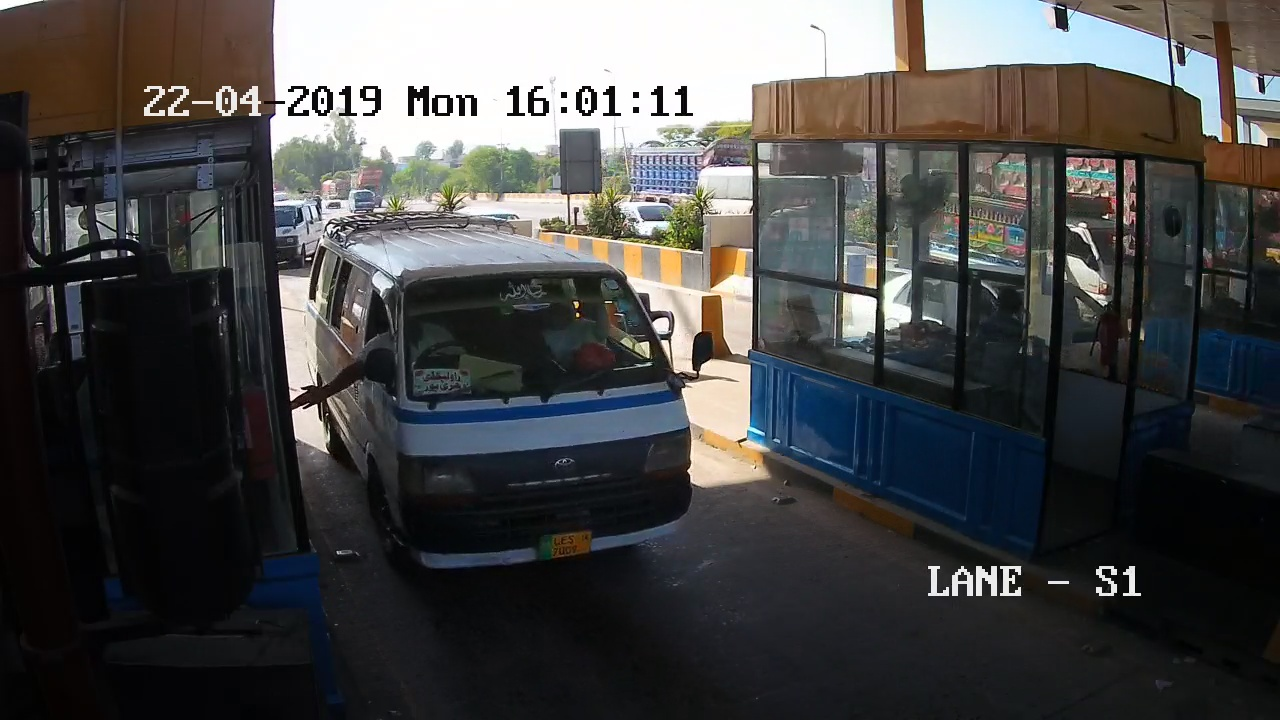Number Plate (Car): (538, 529, 593, 560)
